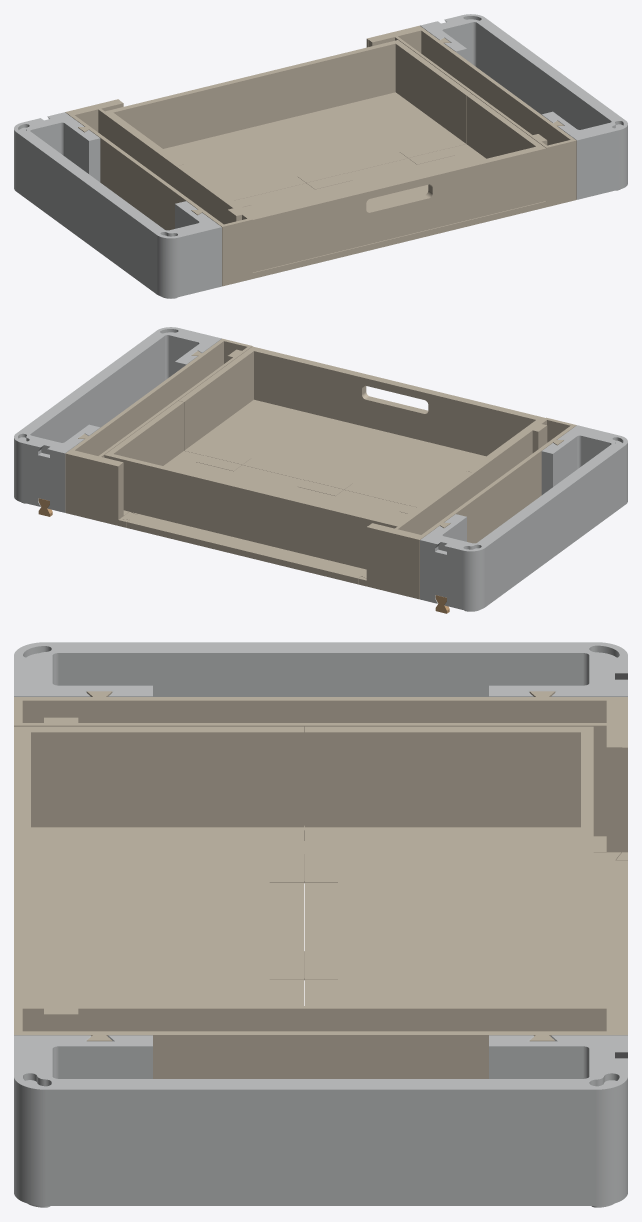
Rendered from layer-assembly.glb.
3 views of the same model, one above another, from view 1: azimuth 30°, elevation 25°; view 2: azimuth 150°, elevation 25°; view 3: azimuth 270°, elevation 25° (orthographic). The views are drawn at different scales.
Visible parts, largest first — view 1: C08, C07, C09, C10, C03, C04, C05; view 2: C07, C08, C09, C10, C03, C04, C06; view 3: C10, C07, C08, C04, C09, C03, C06.
Part boxes in pixels (<box>): C08: <box>105,40,471,200</box>; C07: <box>179,94,546,272</box>; C09: <box>14,112,221,298</box>; C10: <box>420,14,627,199</box>; C03: <box>65,99,283,286</box>; C04: <box>366,25,576,214</box>; C05: <box>283,209,514,271</box>; C07: <box>179,346,545,507</box>; C08: <box>104,401,470,569</box>; C09: <box>420,425,627,611</box>; C10: <box>14,327,221,512</box>; C03: <box>358,417,576,599</box>; C04: <box>65,338,252,527</box>; C06: <box>120,512,366,584</box>; C10: <box>14,1035,627,1207</box>; C07: <box>14,726,304,1005</box>; C08: <box>304,726,593,1005</box>; C04: <box>14,984,627,1078</box>; C09: <box>14,642,627,696</box>; C03: <box>14,691,627,860</box>; C06: <box>593,852,627,1005</box>.
Bounding box in the file's own units: 0.495 × 0.068 × 0.287.
